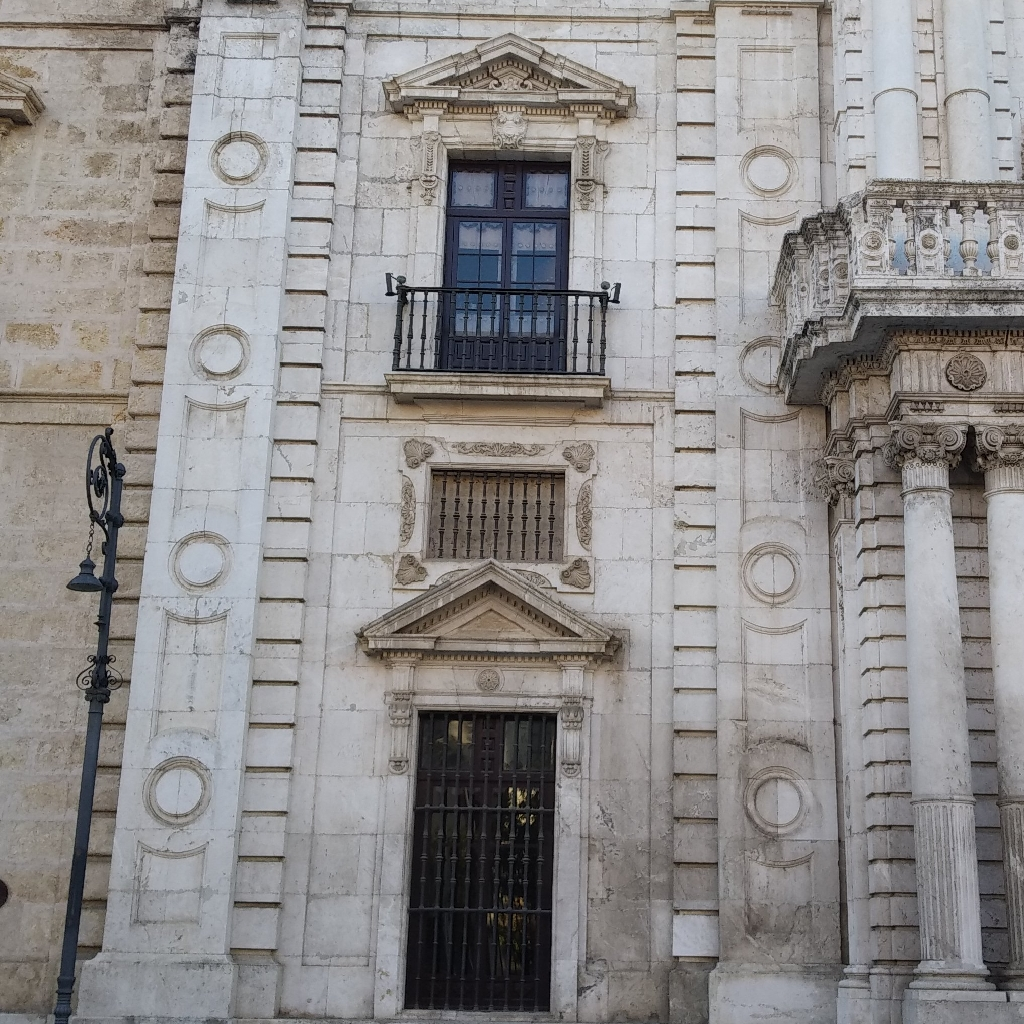fronton: (357, 563, 623, 665), (387, 31, 628, 110)
vano-adintelado: (372, 693, 591, 1024), (407, 134, 609, 379)
